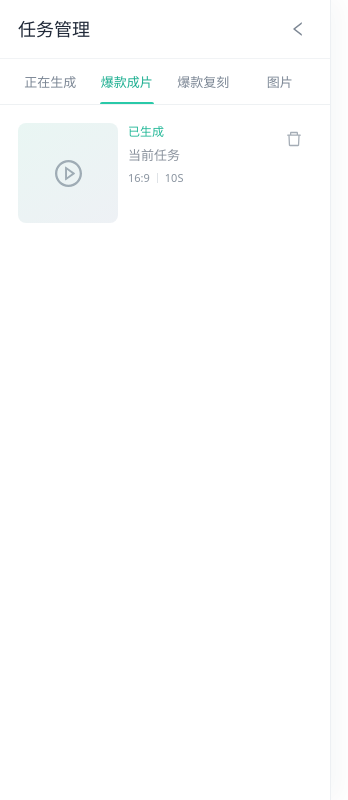
Test: TaskCenterDrawer isolation and reconciliation › removes a session task after confirmation without touching project videos
Expected: the text "当前任务" is shown, [128,146,180,164]
Click the button named "删除当前任务" at [294, 138], box [281,126,306,151]
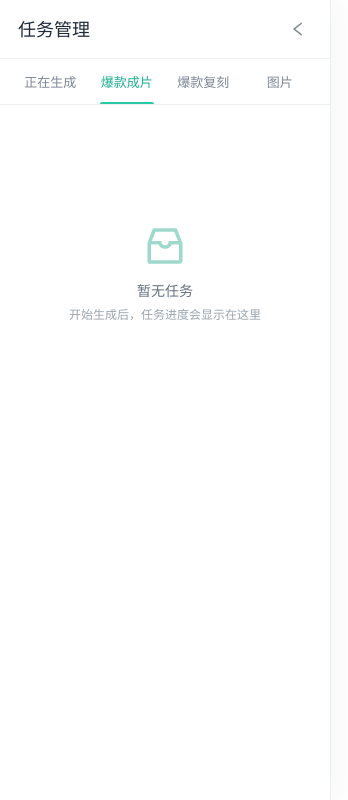
Expected: the button "当前任务" is gone
